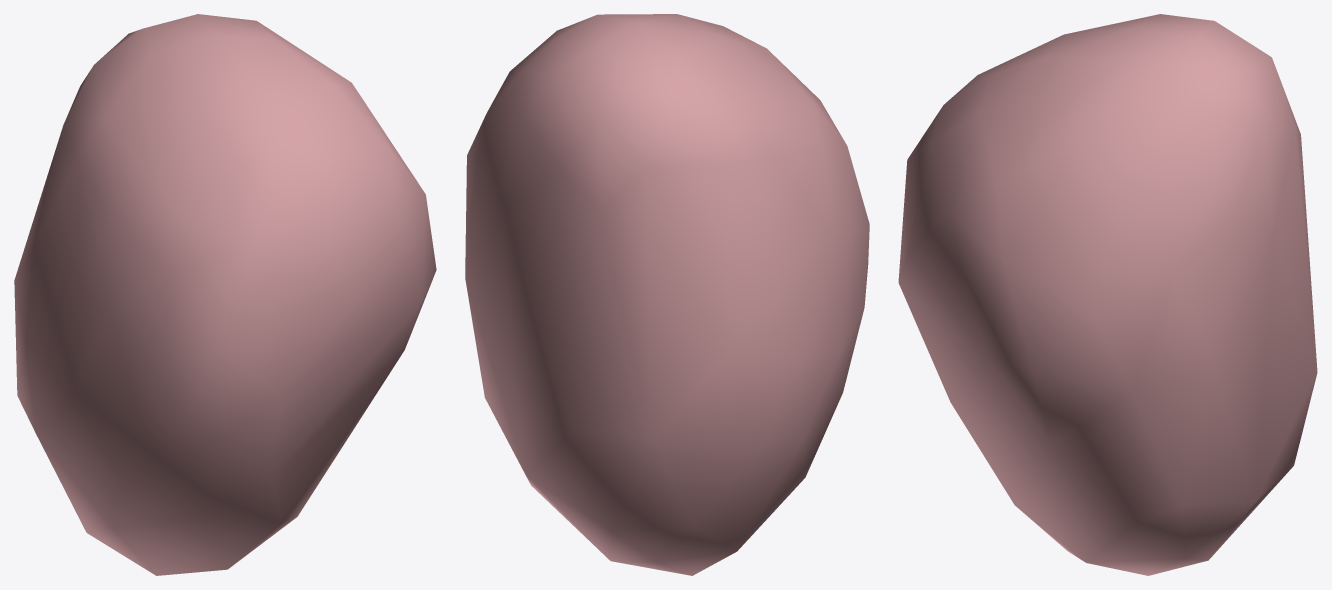
Rendered from fma55563_fj3673.glb.
3 views of the same model, side by side, from view 1: azimuth 30°, elevation 25°; view 2: azimuth 150°, elevation 25°; view 3: azimuth 270°, elevation 25° (orthographic). The views are drawn at different scales.
Visible parts, largest first — view 1: FMA55563_FJ3673; view 2: FMA55563_FJ3673; view 3: FMA55563_FJ3673.
Part boxes in pixels (x1,y1,x2,y2): FMA55563_FJ3673: (14, 14, 436, 575); FMA55563_FJ3673: (465, 14, 869, 575); FMA55563_FJ3673: (898, 14, 1317, 575).
Size of the model in its own units: 0.00483 by 0.00695 by 0.00475.
